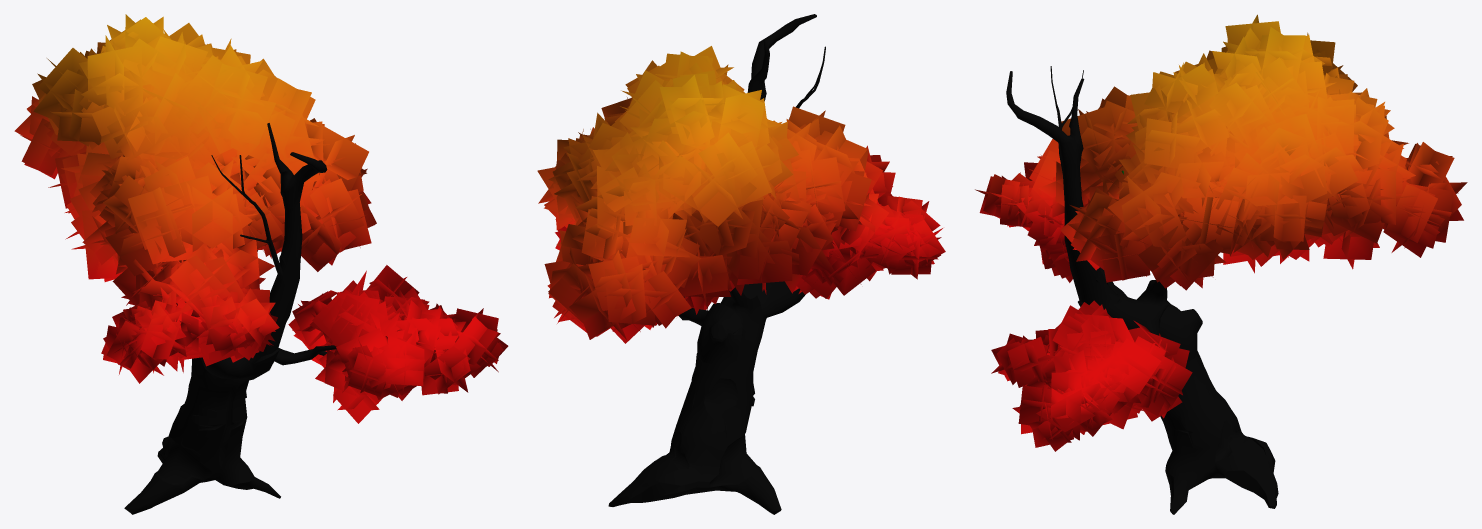
Rendered from TGV_Hero_Tree_01A.fbx.
3 views of the same model, side by side, from view 1: azimuth 30°, elevation 25°; view 2: azimuth 150°, elevation 25°; view 3: azimuth 270°, elevation 25° (orthographic). The views are drawn at different scales.
Visible parts, largest first — view 1: TGV_Hero_Tree_01A_LOD0; view 2: TGV_Hero_Tree_01A_LOD0; view 3: TGV_Hero_Tree_01A_LOD0.
Boxes of the visible parts, x1,y1,x2,y2 form: TGV_Hero_Tree_01A_LOD0: [14, 14, 508, 514]; TGV_Hero_Tree_01A_LOD0: [537, 14, 945, 514]; TGV_Hero_Tree_01A_LOD0: [975, 14, 1467, 514].
Size of what is drawn, in the model's own units: 846 by 948 by 946.
